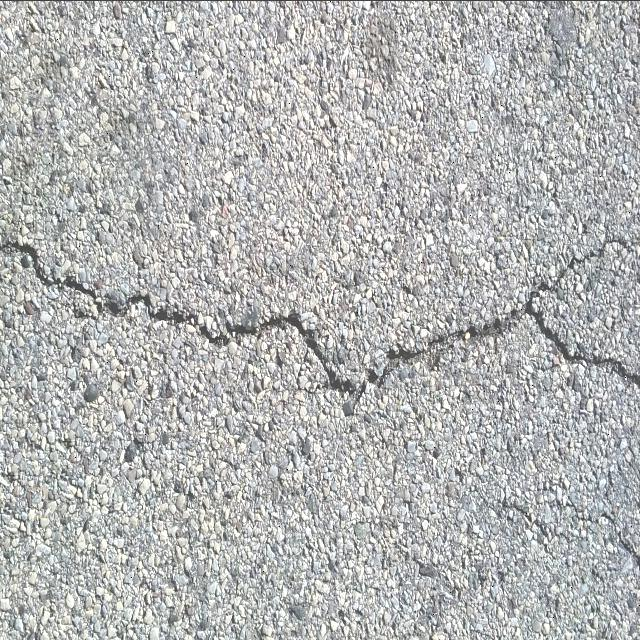Crack: (0, 240, 640, 409), (537, 226, 633, 291), (601, 509, 640, 571)
